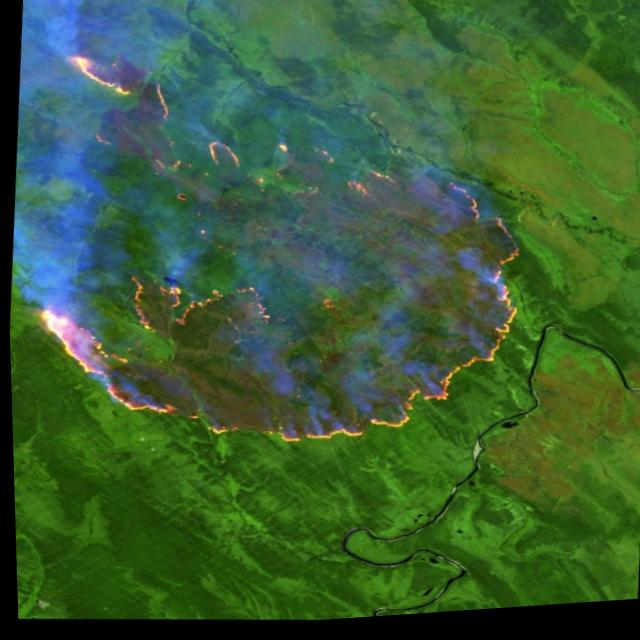fire: (8, 22, 542, 482)
